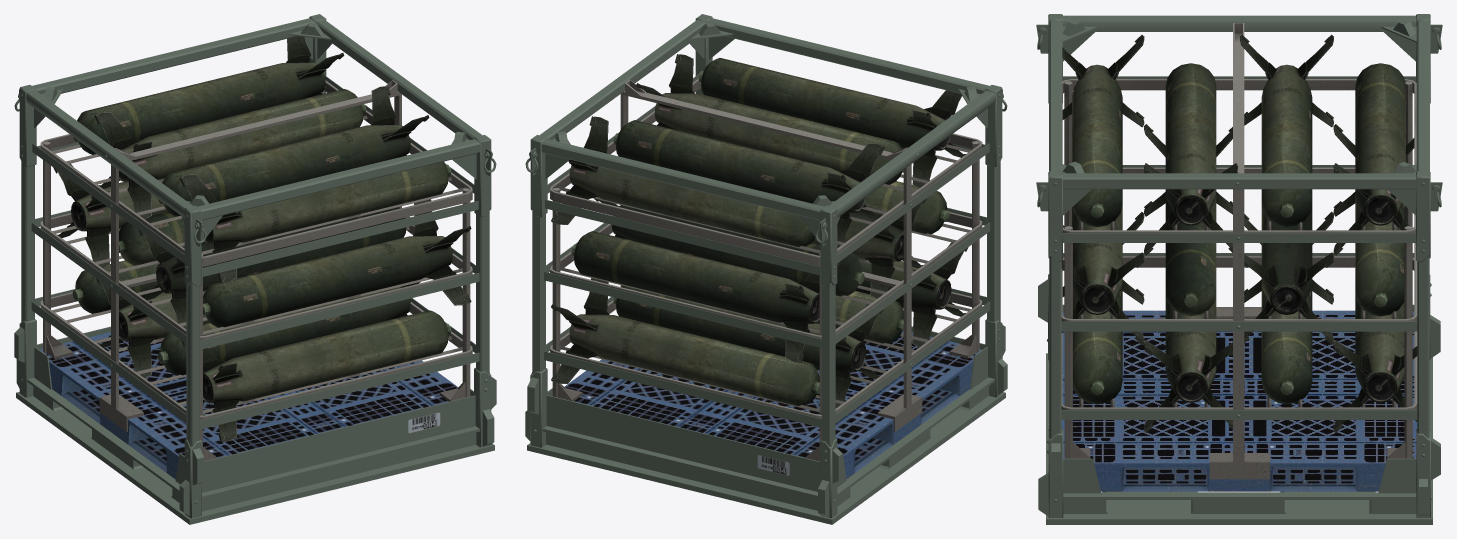
Rendered from VV_crate_bomb_rack.fbx.
The picture shows the model from 3 angles, left to right: view 1: azimuth 30°, elevation 25°; view 2: azimuth 150°, elevation 25°; view 3: azimuth 270°, elevation 25°; orthographic projection. The views are drawn at different scales.
Parts seen in each view (by area): view 1: VV_crate_bomb_rack, VV_crate_bomb_bomb_set; view 2: VV_crate_bomb_rack, VV_crate_bomb_bomb_set; view 3: VV_crate_bomb_rack, VV_crate_bomb_bomb_set.
Boxes of the visible parts, left/top/right/bottom form: VV_crate_bomb_rack: left=14, top=14, right=496, bottom=524; VV_crate_bomb_bomb_set: left=53, top=36, right=471, bottom=442; VV_crate_bomb_rack: left=525, top=14, right=1007, bottom=524; VV_crate_bomb_bomb_set: left=551, top=54, right=968, bottom=408; VV_crate_bomb_rack: left=1036, top=14, right=1442, bottom=524; VV_crate_bomb_bomb_set: left=1061, top=34, right=1417, bottom=432.
Size of the model in its own units: 219 by 209 by 221.
4 materials, 3 textured.
